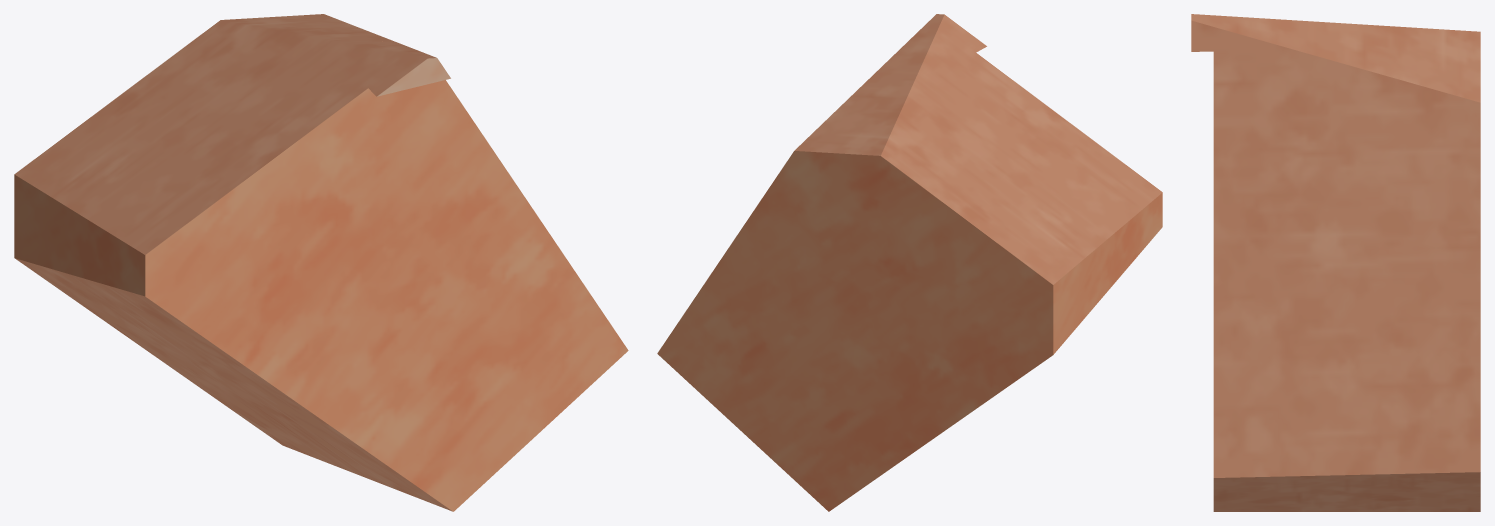
The model's file is towngate_s02.fbx.
3 views of the same model, side by side, from view 1: azimuth 30°, elevation 25°; view 2: azimuth 150°, elevation 25°; view 3: azimuth 270°, elevation 25° (orthographic). The views are drawn at different scales.
Visible parts, largest first — view 1: towngate_s02; view 2: towngate_s02; view 3: towngate_s02.
Boxes of the visible parts, <box> form: towngate_s02: <box>14,14,628,511</box>; towngate_s02: <box>657,14,1162,511</box>; towngate_s02: <box>1191,14,1480,511</box>.
Bounding box in the file's own units: 6.4 × 6.2 × 3.25.
